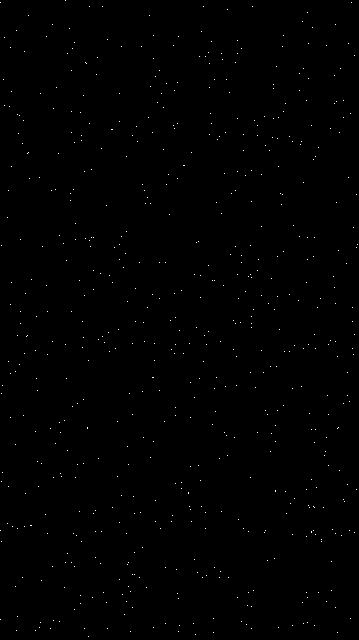pot: (172, 214, 350, 395)
